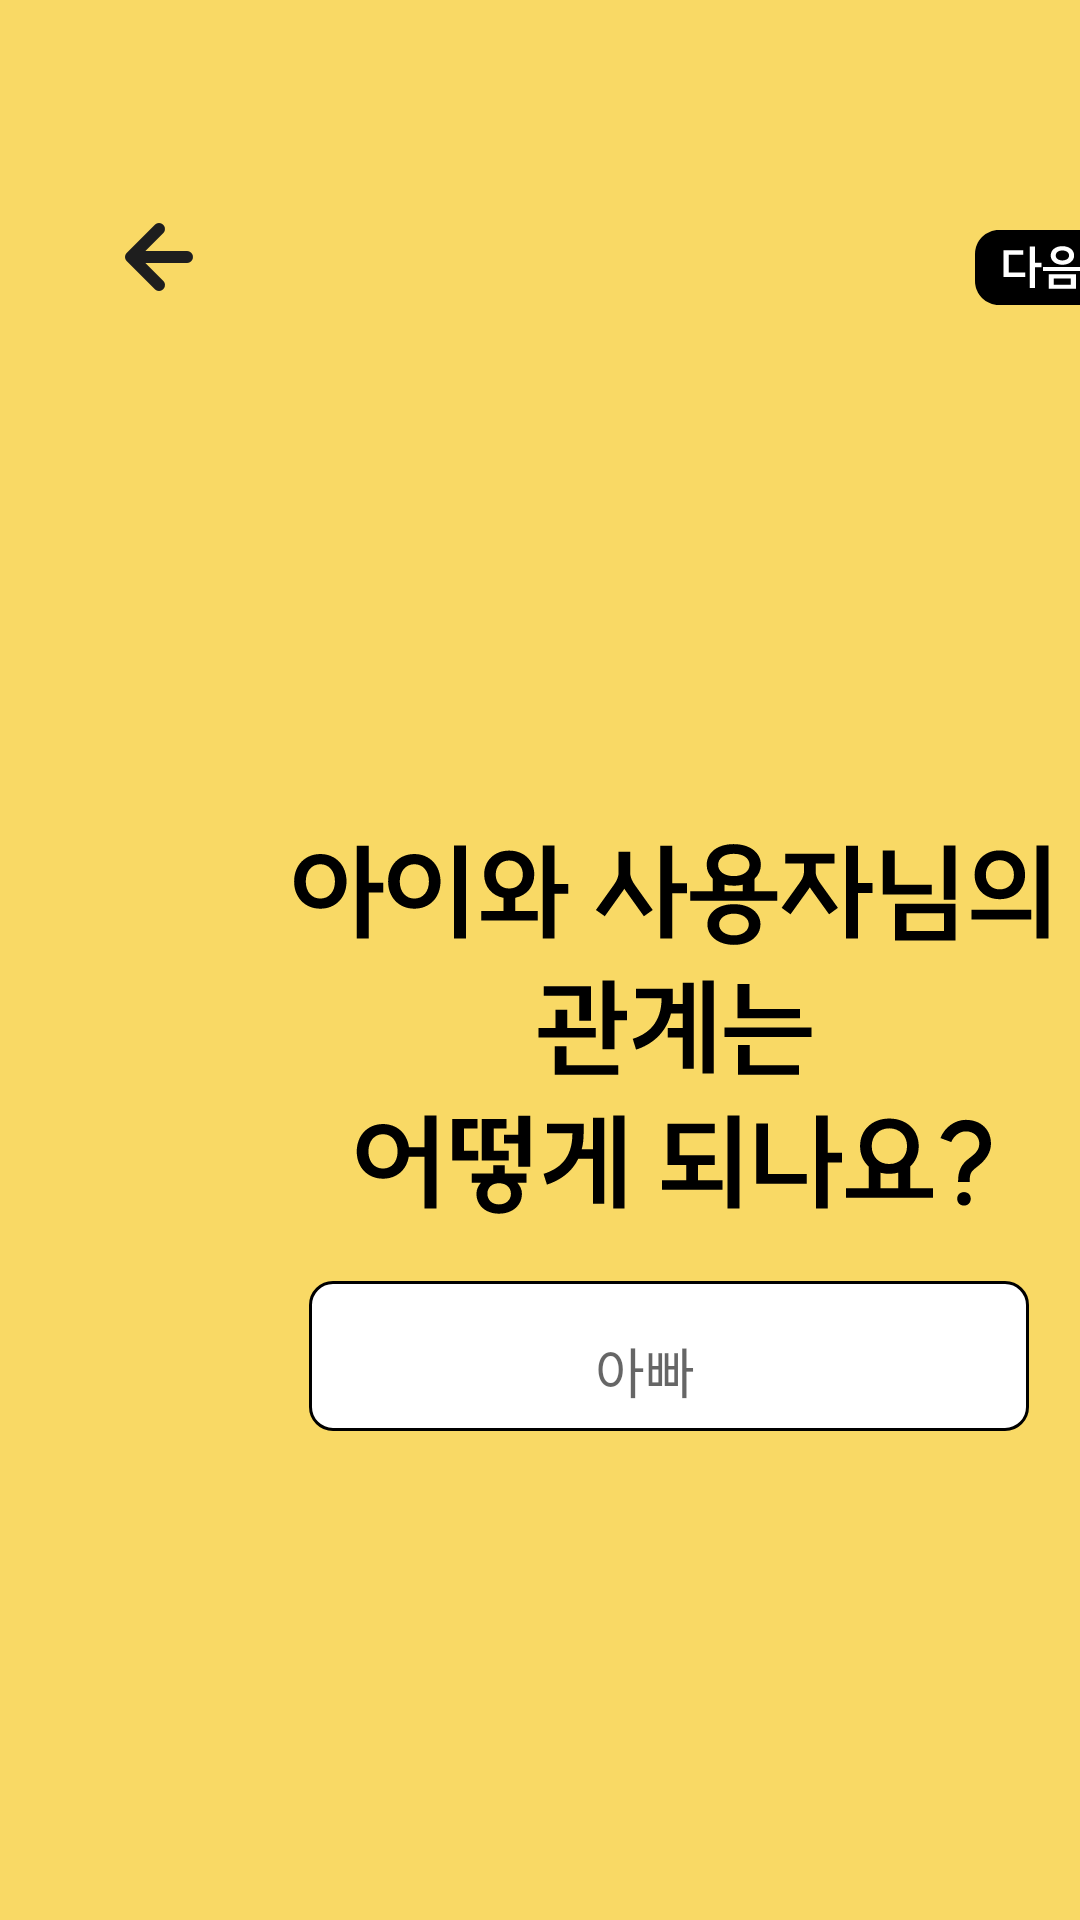

Named icons in this screenshot (1080 x 1920) and their bounding boxes, (x1, y1, x2, y2):
arrow left: (125, 223, 193, 291)
